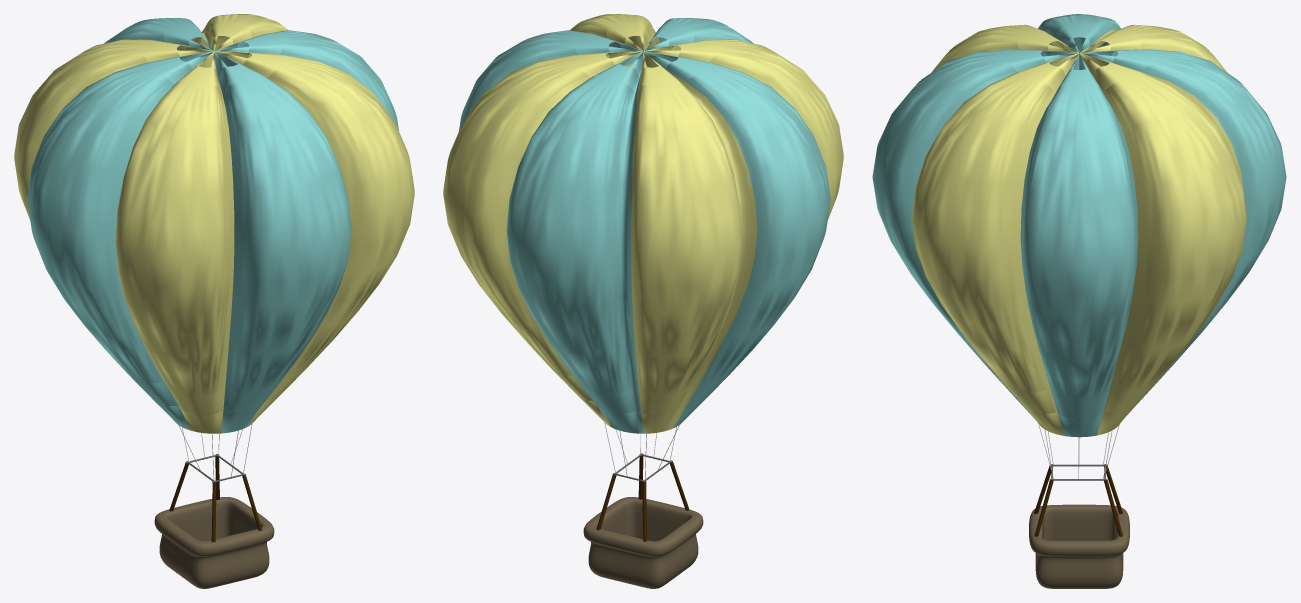
Rendered from hotairballoon2.dae.
3 renders of one model, left to right at view 1: azimuth 30°, elevation 25°; view 2: azimuth 150°, elevation 25°; view 3: azimuth 270°, elevation 25°, orthographic.
Visible parts, largest first — view 1: Cylinder002, Box001; view 2: Cylinder002, Box001; view 3: Cylinder002, Box001.
Boxes of the visible parts, x1,y1,x2,y2 form: Cylinder002: (14, 14, 414, 433); Box001: (154, 497, 274, 588); Cylinder002: (443, 14, 843, 433); Box001: (583, 497, 703, 588); Cylinder002: (872, 14, 1286, 437); Box001: (1029, 504, 1129, 588).
Size of the model in its own units: 31.15 by 31.15 by 43.35.
